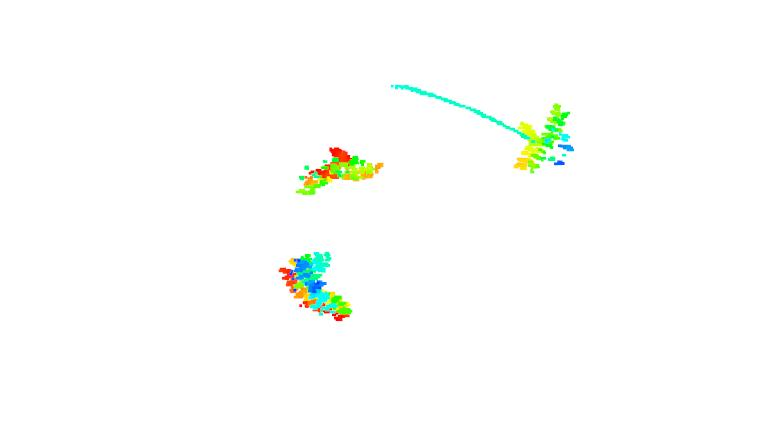chickpea: (276, 247, 354, 324), (509, 101, 579, 174), (295, 144, 387, 196)
